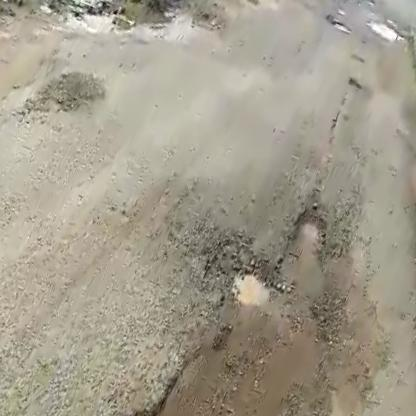pothole: (182, 217, 286, 312), (289, 204, 334, 254), (361, 14, 409, 47)
